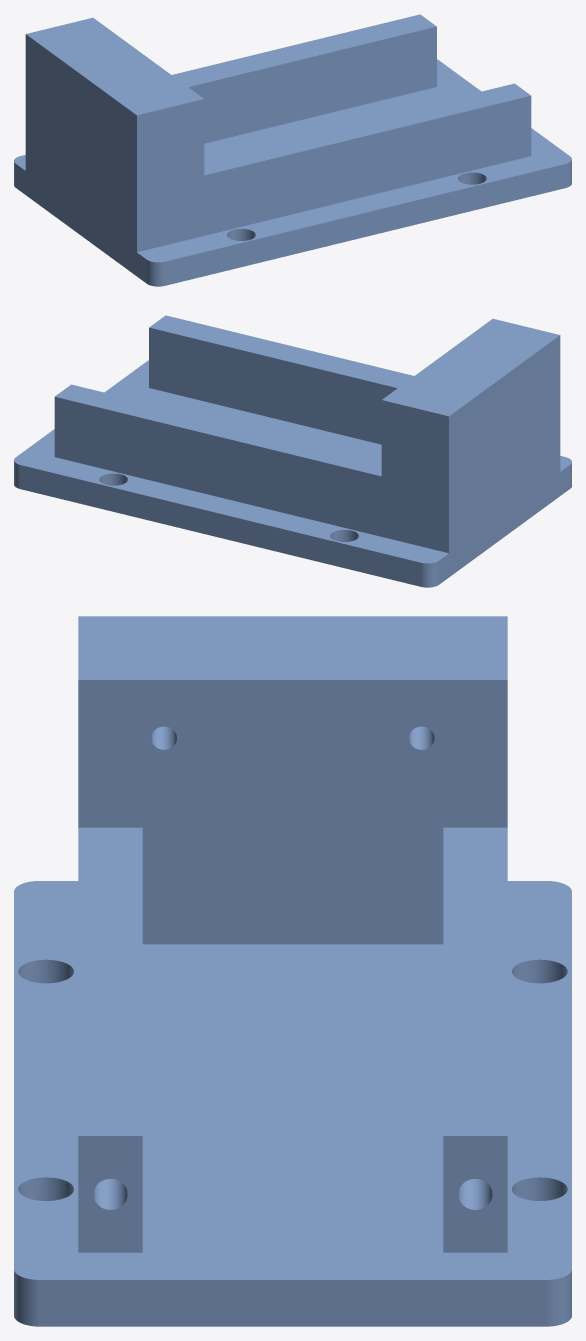
The model's file is step_19.glb.
The picture shows the model from 3 angles, top to bottom: view 1: azimuth 30°, elevation 25°; view 2: azimuth 150°, elevation 25°; view 3: azimuth 270°, elevation 25°; orthographic projection. The views are drawn at different scales.
Parts seen in each view (by area): view 1: part__body; view 2: part__body; view 3: part__body.
Boxes of the visible parts, box(x1,y1,x2,y2) form: part__body: box(14, 14, 571, 286); part__body: box(14, 315, 571, 587); part__body: box(14, 616, 571, 1326).
Size of the model in its own units: 220 by 80 by 130.
